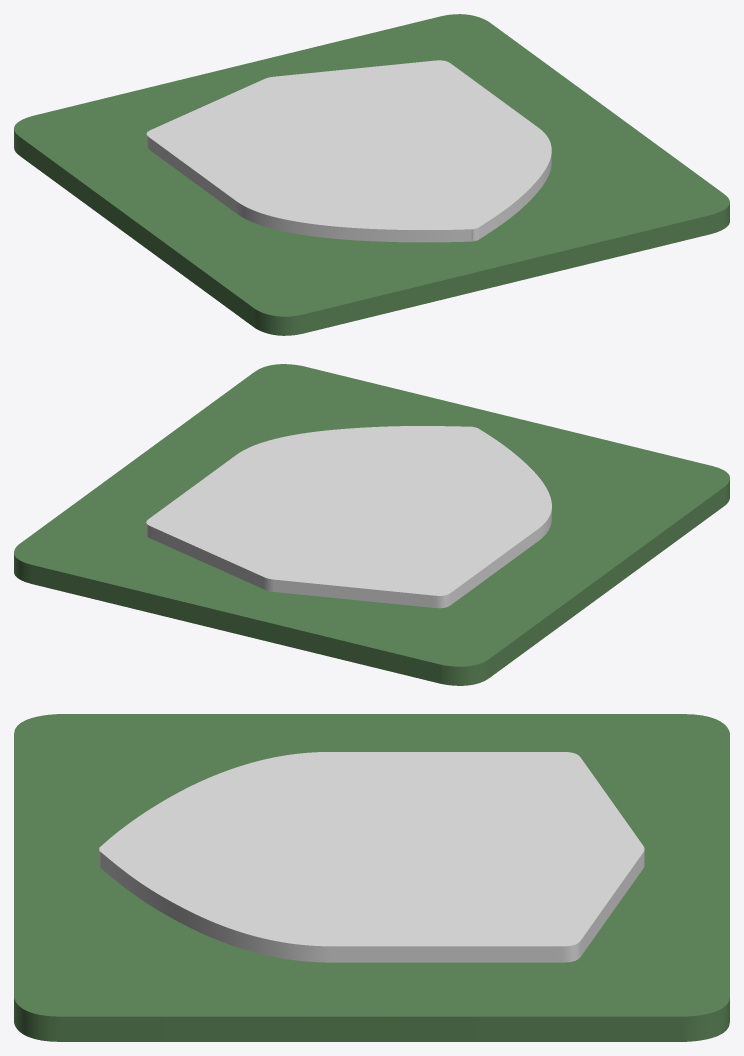
The model's file is kalkanicon.fbx.
The picture shows the model from 3 angles, top to bottom: view 1: azimuth 30°, elevation 25°; view 2: azimuth 150°, elevation 25°; view 3: azimuth 270°, elevation 25°; orthographic projection. The views are drawn at different scales.
Parts seen in each view (by area): view 1: Curve; view 2: Curve; view 3: Curve.
Boxes of the visible parts, left/top/right/bottom form: Curve: left=14, top=14, right=729, bottom=335; Curve: left=14, top=364, right=729, bottom=685; Curve: left=14, top=714, right=729, bottom=1041.
Bounding box in the file's own units: 5.13 × 0.3284 × 5.13.
